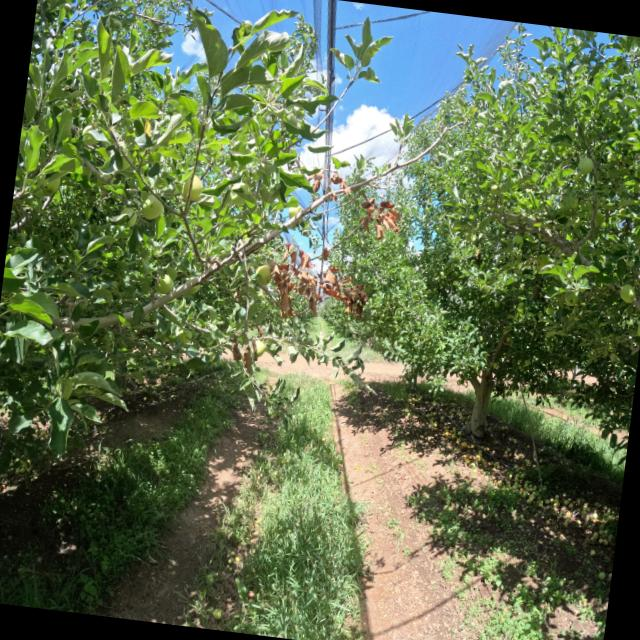-FireBlight-: (264, 240, 376, 325), (302, 172, 352, 218), (354, 194, 400, 243), (224, 330, 260, 379)
